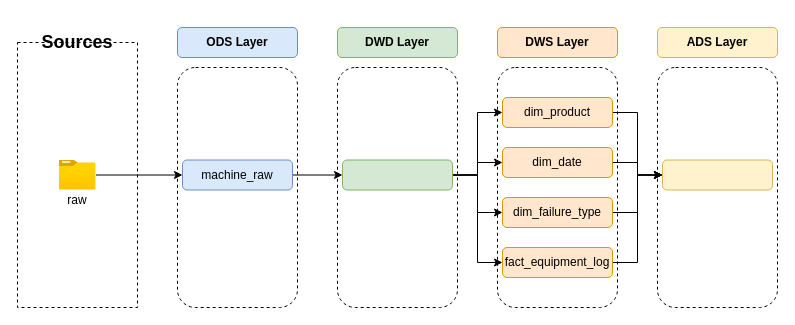
Image size: 795x325. Some labels were removed from this diagram. Here are the shapes that lost their labels. From the top down, the centre of each, then its label:
At (x=397, y=174): "machine_clean".
At (x=717, y=174): "v_machine_analysis".
